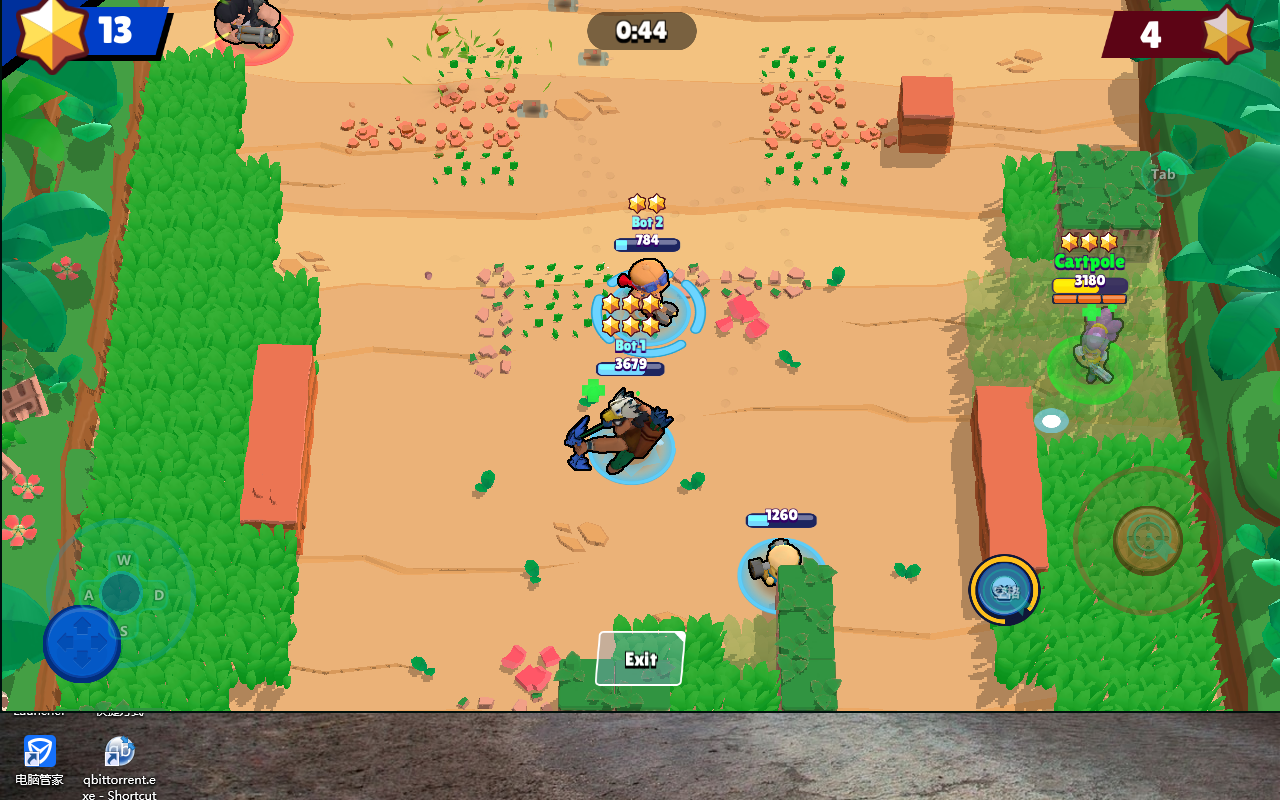current_player: (1046, 338, 1131, 408)
